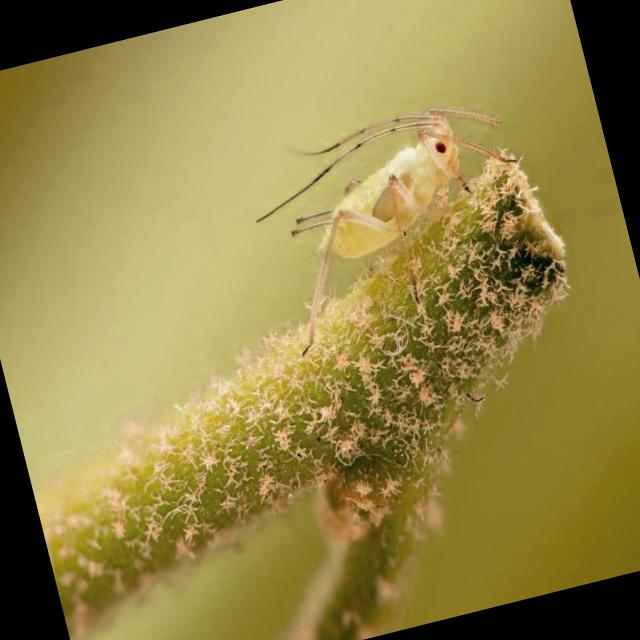aphid: (204, 36, 598, 402)
